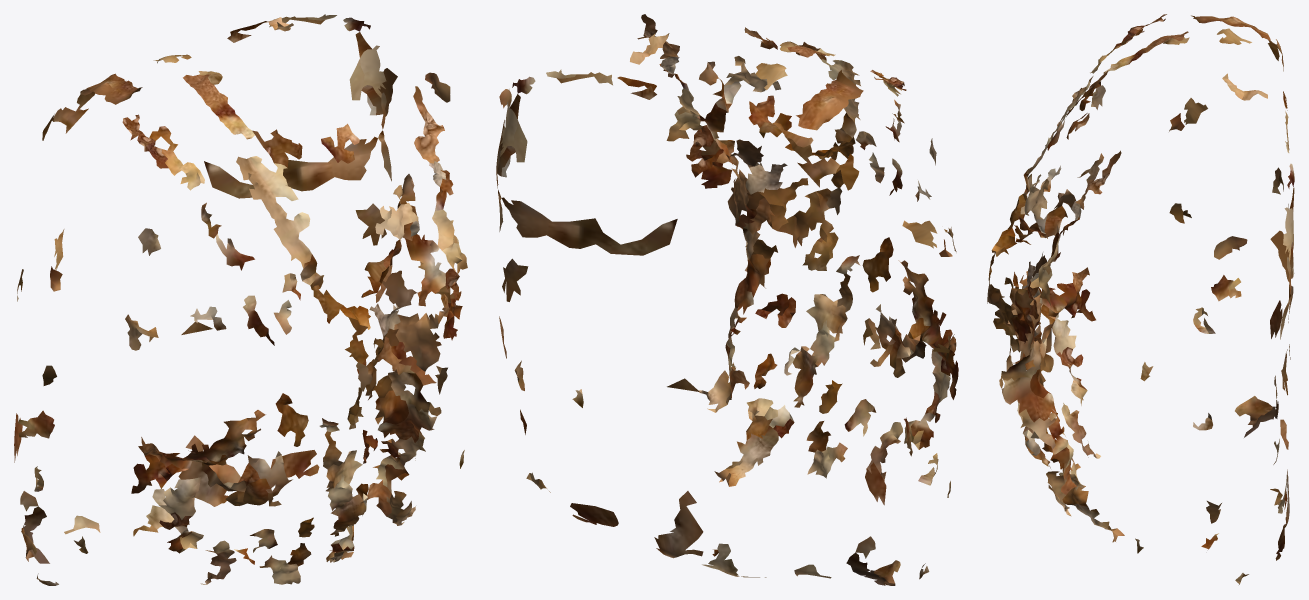
The picture shows the model from 3 angles, left to right: view 1: azimuth 30°, elevation 25°; view 2: azimuth 150°, elevation 25°; view 3: azimuth 270°, elevation 25°; orthographic projection. The views are drawn at different scales.
Size of the model in its own units: 0.8363 by 0.9894 by 0.557.
